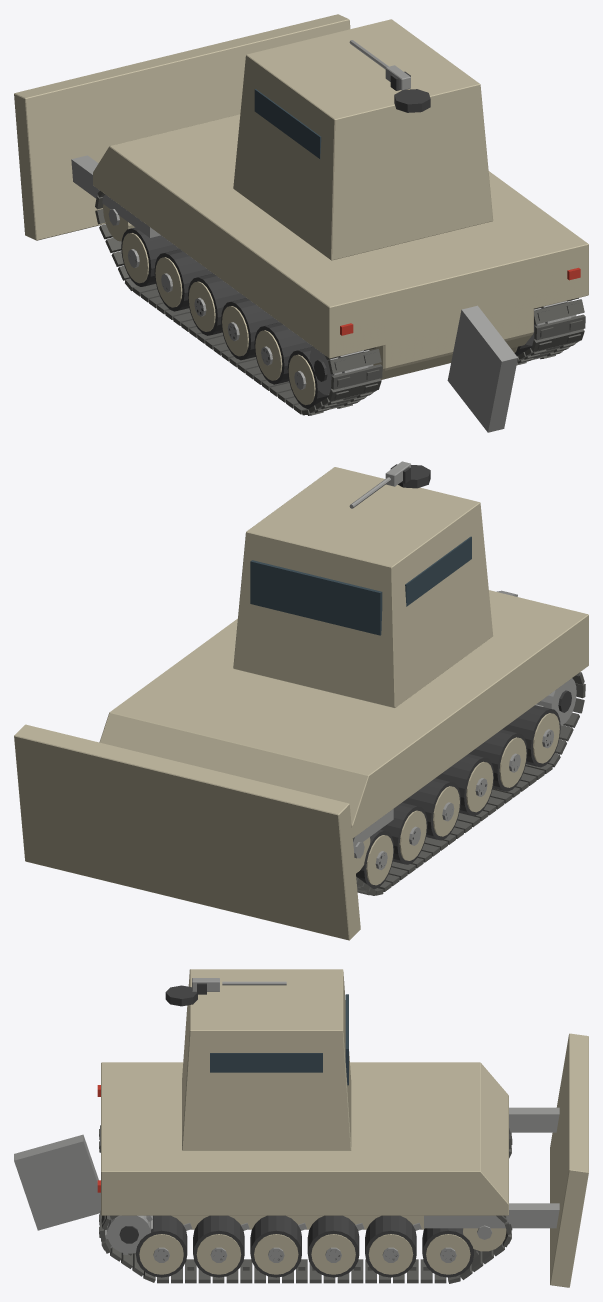
File: rus_eng_bat.glb
The picture shows the model from 3 angles, top to bottom: view 1: azimuth 30°, elevation 25°; view 2: azimuth 150°, elevation 25°; view 3: azimuth 270°, elevation 25°; orthographic projection. The views are drawn at different scales.
Visible parts, largest first — view 1: body, turret, barrel; view 2: body, barrel; view 3: body, barrel, turret.
Part boxes in pixels (box(x1,y1,x2,y2)): body: box(14, 14, 588, 432); turret: box(394, 89, 430, 112); barrel: box(349, 40, 410, 90); body: box(14, 467, 588, 940); barrel: box(349, 461, 410, 508); body: box(14, 969, 588, 1287); barrel: box(192, 978, 286, 994); turret: box(165, 985, 197, 1006).
Size of the model in its own units: 4 by 3.44 by 7.12.
